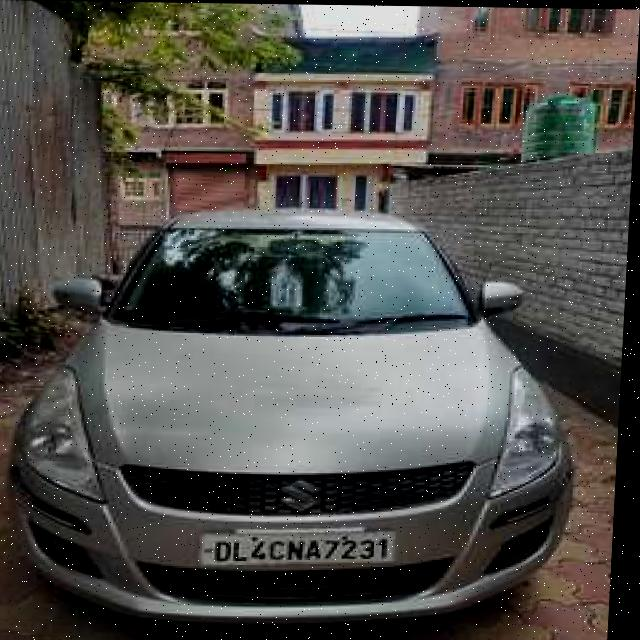plate: (208, 529, 402, 564)
